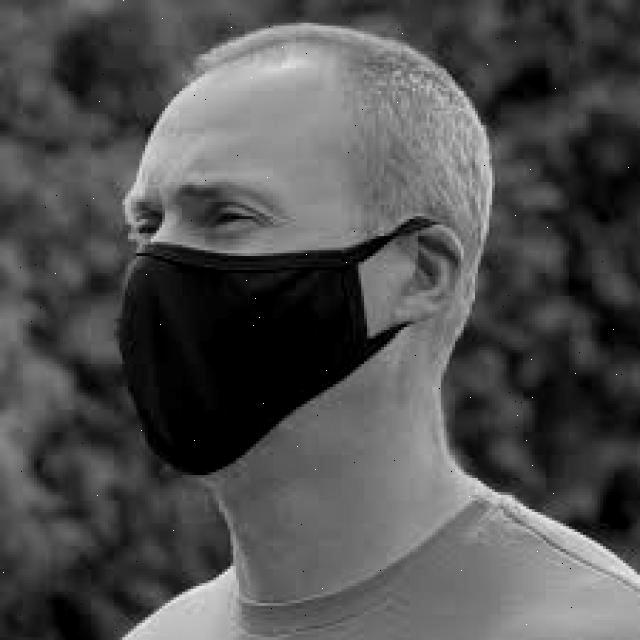fake: (58, 222, 437, 484)
real: (120, 44, 405, 481)
